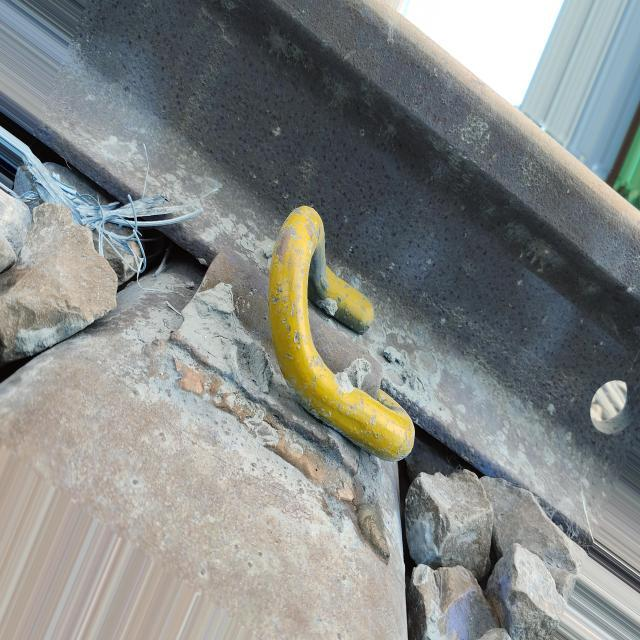Good Fasteners: (200, 206, 415, 480)
